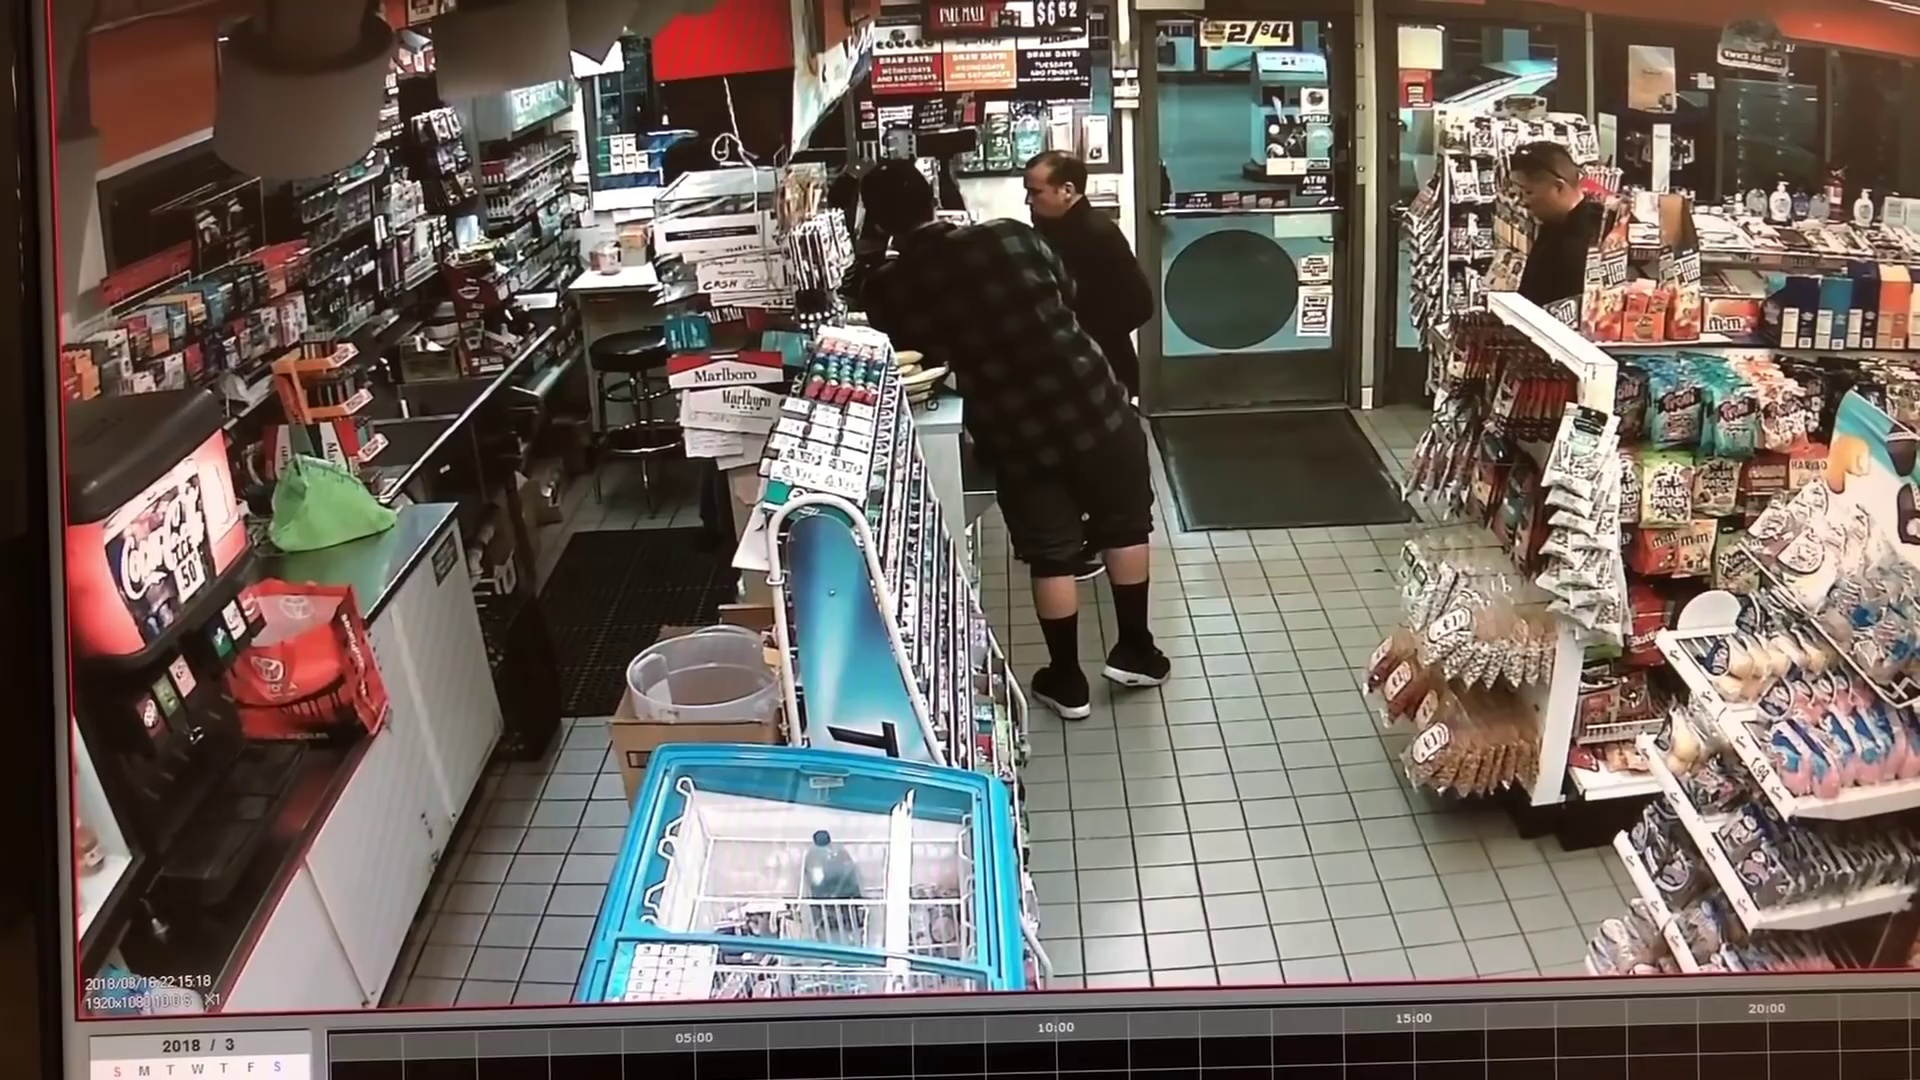face: (1514, 158, 1557, 217), (1021, 171, 1067, 217)
